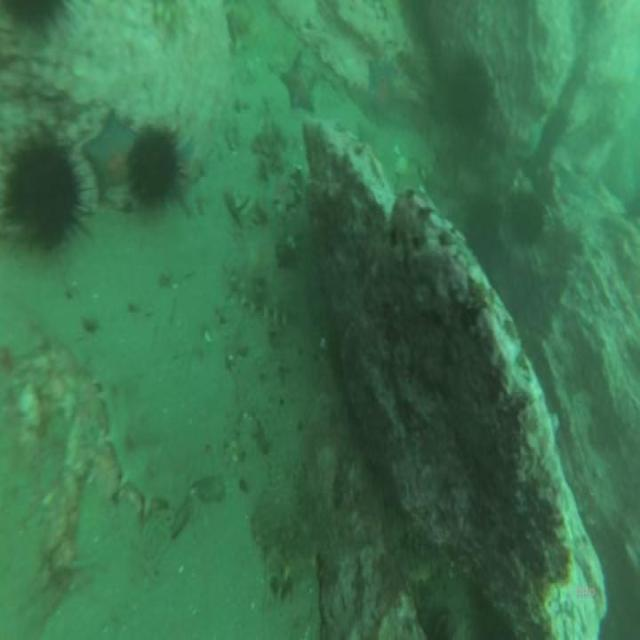echinus: (0, 123, 93, 259), (123, 120, 190, 220), (448, 49, 494, 133), (0, 0, 76, 46), (506, 186, 548, 253)
holothurian: (92, 360, 186, 515), (246, 460, 306, 556), (226, 261, 296, 330)
starfish: (80, 103, 136, 202), (280, 48, 320, 119), (365, 54, 400, 130), (172, 136, 202, 207)
